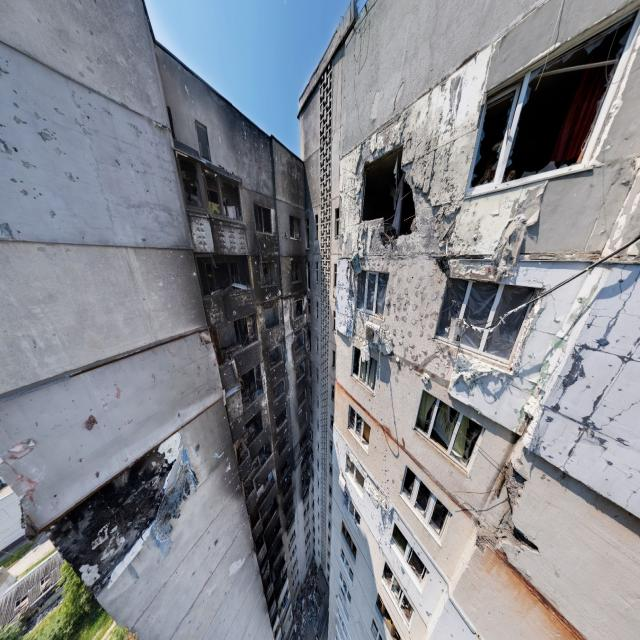broken_window: (466, 5, 638, 196), (434, 274, 541, 372), (413, 388, 483, 475), (360, 144, 416, 242), (400, 464, 450, 544), (356, 269, 389, 320), (347, 402, 371, 453)
building: (296, 0, 639, 639), (1, 0, 328, 638)
